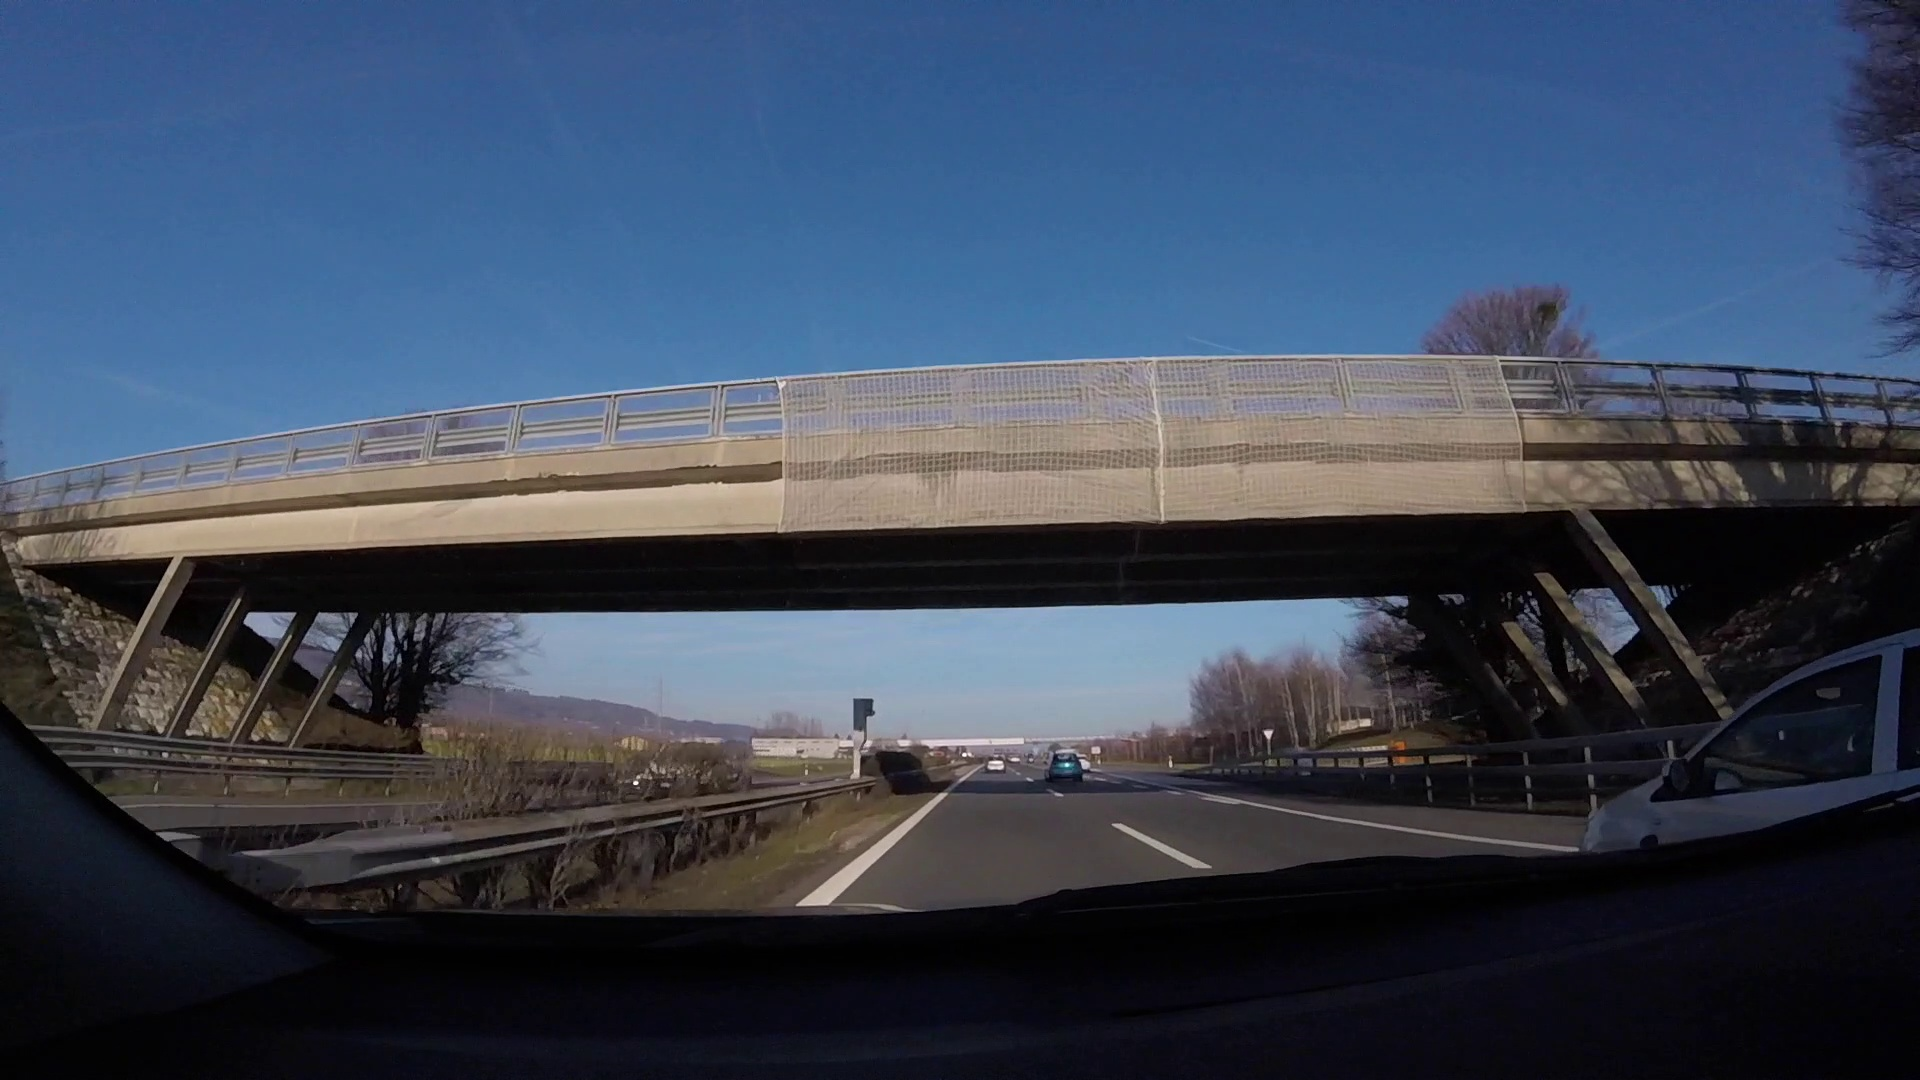radar: (851, 696, 877, 781)
